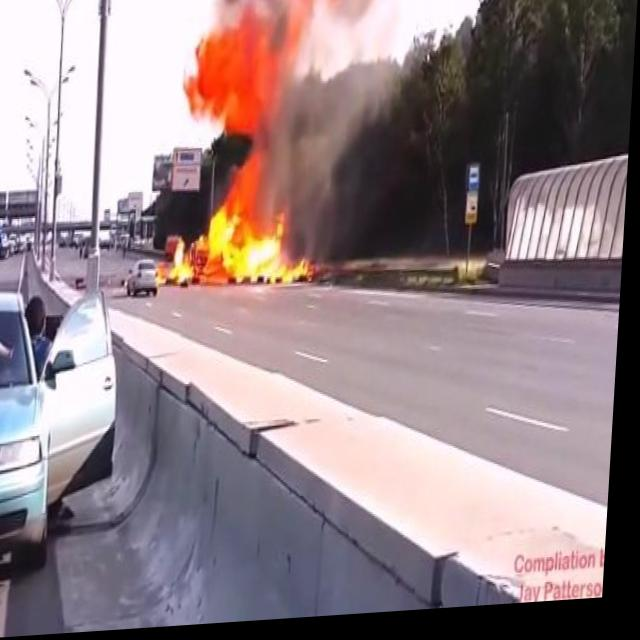fire: (182, 0, 304, 140), (169, 206, 320, 297), (216, 135, 292, 215)
